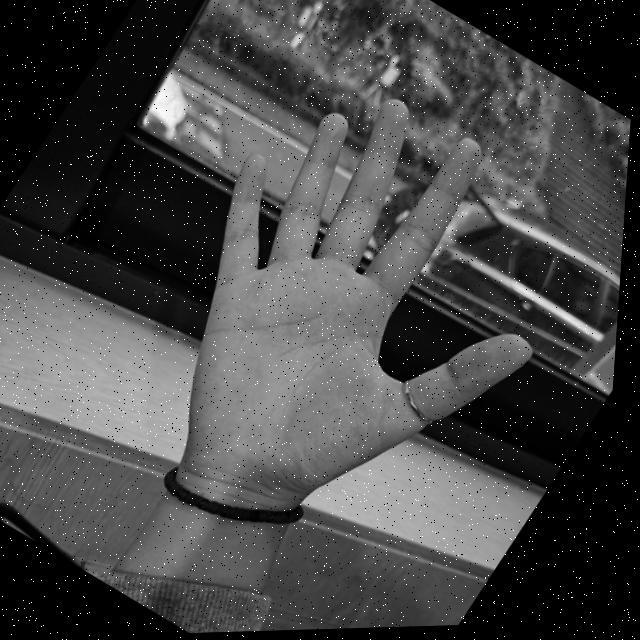no-gloves: (32, 39, 638, 638)
